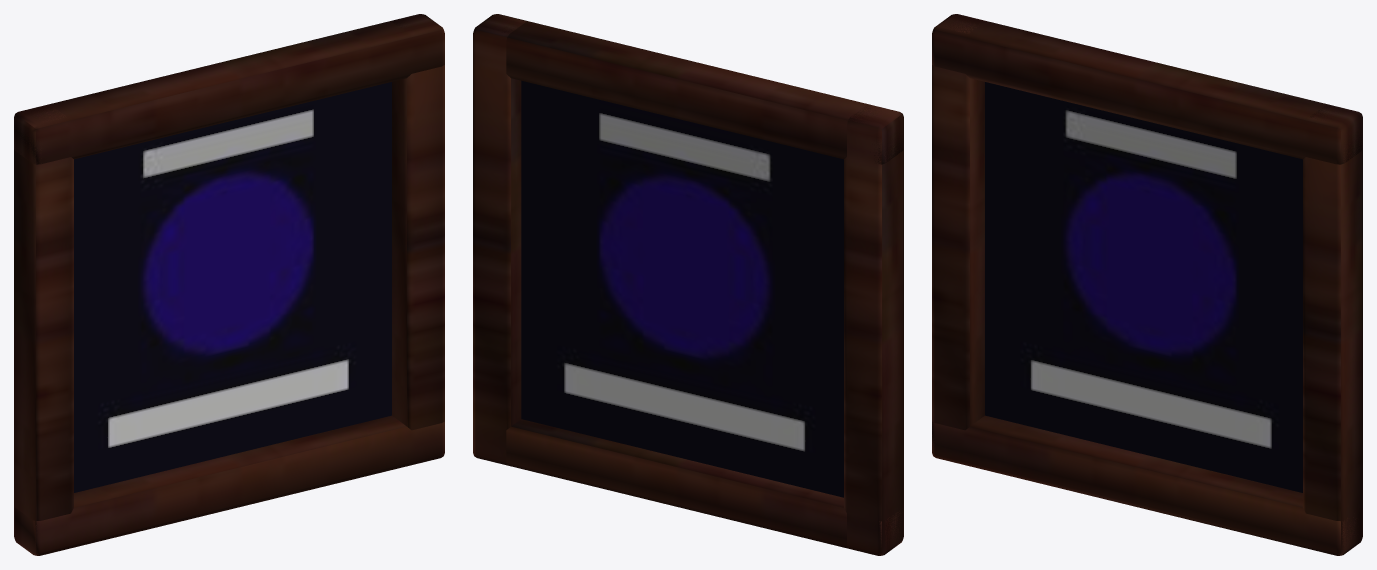
Rendered from gallery_photo_6.glb.
3 views of the same model, side by side, from view 1: azimuth 30°, elevation 25°; view 2: azimuth 150°, elevation 25°; view 3: azimuth 330°, elevation 25° (orthographic).
Visible parts, largest first — view 1: Photo, Prop dark wood; view 2: Photo, Prop dark wood; view 3: Photo, Prop dark wood.
Part boxes in pixels (x1,y1,x2,y2): Photo: [74, 82, 391, 492]; Prop dark wood: [14, 14, 444, 555]; Photo: [521, 80, 843, 497]; Prop dark wood: [473, 14, 903, 555]; Photo: [985, 82, 1302, 492]; Prop dark wood: [932, 14, 1362, 555].
Bounding box in the file's own units: 0.3 × 0.3 × 0.03.
2 materials, 2 textured.
